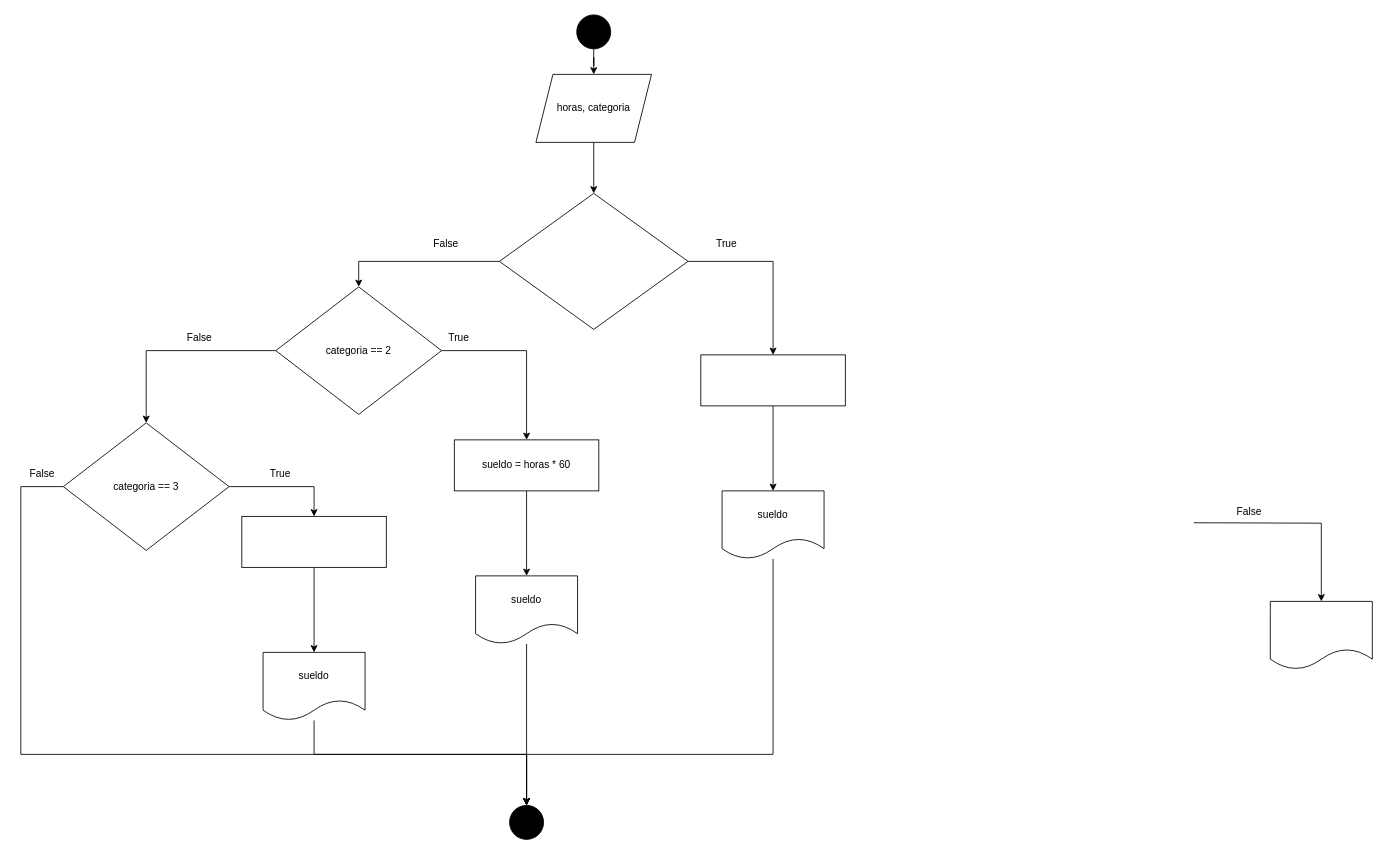
This 1387x854 diagram has some shape labels left out. Each missing label, with the box of its shape:
categoria == 1: (499, 193, 688, 329)
Fecha Inválida: (1269, 601, 1372, 669)
sueldo = horas * 50: (700, 354, 845, 406)
sueldo = horas * 80: (241, 516, 386, 567)
